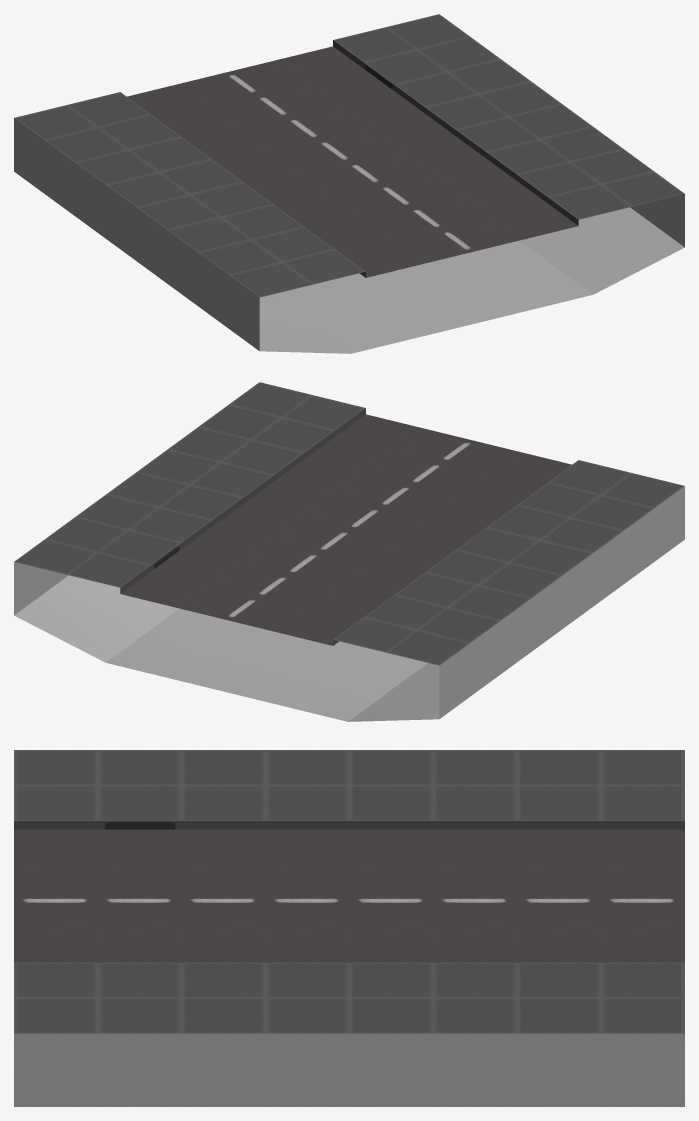
The model's file is brugzonder.fbx.
3 renders of one model, top to bottom at view 1: azimuth 30°, elevation 25°; view 2: azimuth 150°, elevation 25°; view 3: azimuth 270°, elevation 25°, orthographic. The views are drawn at different scales.
Parts seen in each view (by area): view 1: polySurface5; view 2: polySurface5; view 3: polySurface5.
Part boxes in pixels (x1,y1,x2,y2): polySurface5: [14, 14, 684, 353]; polySurface5: [14, 382, 684, 721]; polySurface5: [14, 750, 684, 1106].
Bounding box in the file's own units: 22.88 × 4.04 × 22.88.
